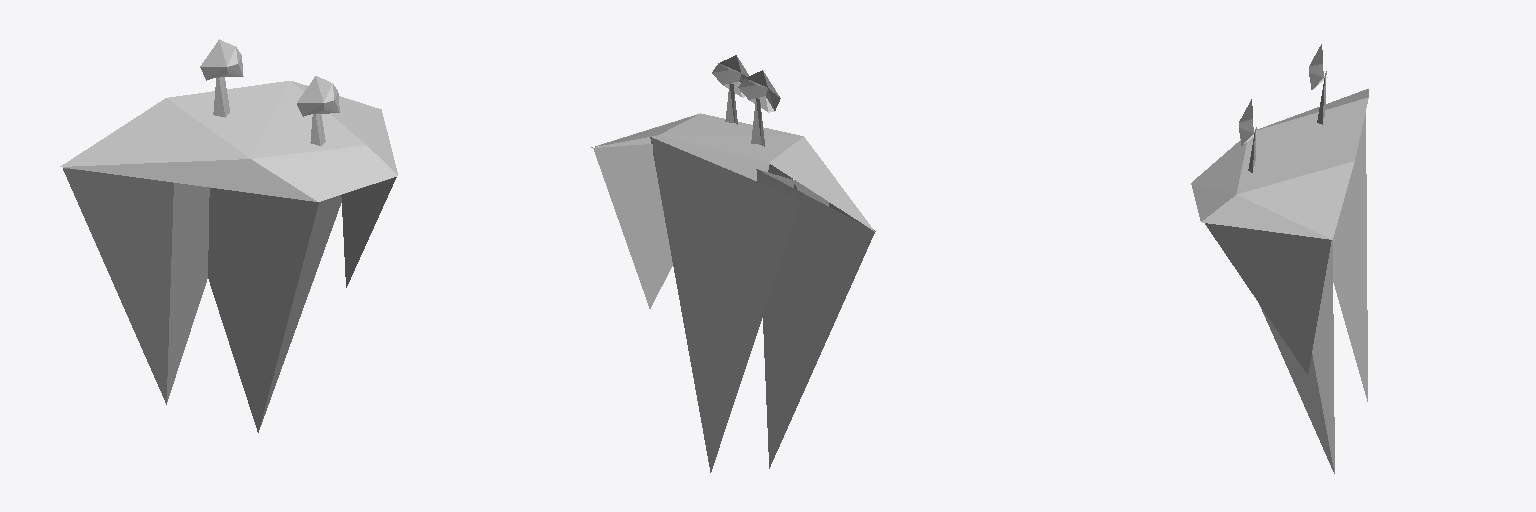
The model's file is TerraExpand.obj.
3 renders of one model, left to right at view 1: azimuth 30°, elevation 25°; view 2: azimuth 150°, elevation 25°; view 3: azimuth 270°, elevation 25°, orthographic.
Bounding box in the file's own units: 0.5696 × 0.7347 × 0.2888.